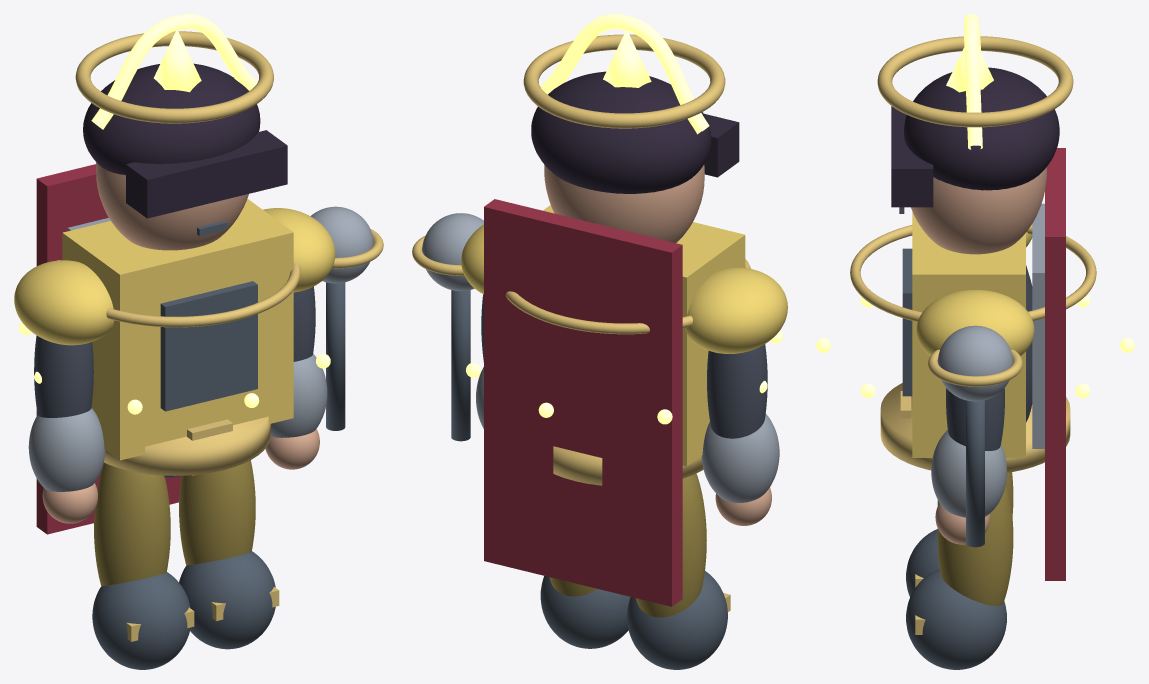
File: Transcendence.glb
3 renders of one model, left to right at view 1: azimuth 30°, elevation 25°; view 2: azimuth 150°, elevation 25°; view 3: azimuth 270°, elevation 25°, orthographic. The views are drawn at different scales.
Visible parts, largest first — view 1: ChestPlate, Hair, ChestInset, HairFringe, Leg, Boot, Boot.001, Leg.001, Shoulder, Cape, CrownRing, Head (+15 smaller); view 2: Cape, Hair, Shoulder, ChestPlate, Head, CrownRing, Boot, Arm, Gauntlet, Boot.001, TranscendentCrest, Leg (+9 smaller); view 3: Hair, ChestPlate, Cape, Head, Boot.001, CrownRing, Leg.001, Shoulder.001, MaceHead, Gauntlet.001, WaistGuard, BackArmor (+11 smaller).
Part boxes in pixels (<box>): ChestPlate: <box>62,198,293,460</box>; Hair: <box>83,63,260,174</box>; ChestInset: <box>160,281,257,411</box>; HairFringe: <box>126,130,287,218</box>; Leg: <box>94,462,170,586</box>; Boot: <box>92,572,190,669</box>; Boot.001: <box>179,551,275,649</box>; Leg.001: <box>179,460,255,565</box>; Shoulder: <box>14,260,114,345</box>; Cape: <box>36,164,180,534</box>; CrownRing: <box>75,31,273,123</box>; Head: <box>96,162,248,250</box>; Cape: <box>484,199,682,606</box>; Hair: <box>531,71,711,193</box>; Shoulder: <box>685,267,787,353</box>; ChestPlate: <box>543,205,745,466</box>; Head: <box>544,164,704,242</box>; CrownRing: <box>523,34,725,128</box>; Boot: <box>627,571,727,669</box>; Arm: <box>707,344,767,438</box>; Gauntlet: <box>701,413,779,502</box>; Boot.001: <box>540,576,630,648</box>; TranscendentCrest: <box>540,14,709,134</box>; Leg: <box>636,473,706,617</box>; Hair: <box>904,67,1059,190</box>; ChestPlate: <box>912,211,1025,457</box>; Cape: <box>1045,148,1065,580</box>; Head: <box>911,167,1046,254</box>; Boot.001: <box>906,569,1006,669</box>; CrownRing: <box>877,36,1073,127</box>; Leg.001: <box>937,482,1013,606</box>; Shoulder.001: <box>916,290,1034,355</box>; MaceHead: <box>937,325,1013,401</box>; Gauntlet.001: <box>931,430,1006,517</box>; WaistGuard: <box>880,383,1070,472</box>; BackArmor: <box>1032,203,1044,448</box>.
Bounding box in the file's own units: 1.92 × 3.27 × 1.51.
